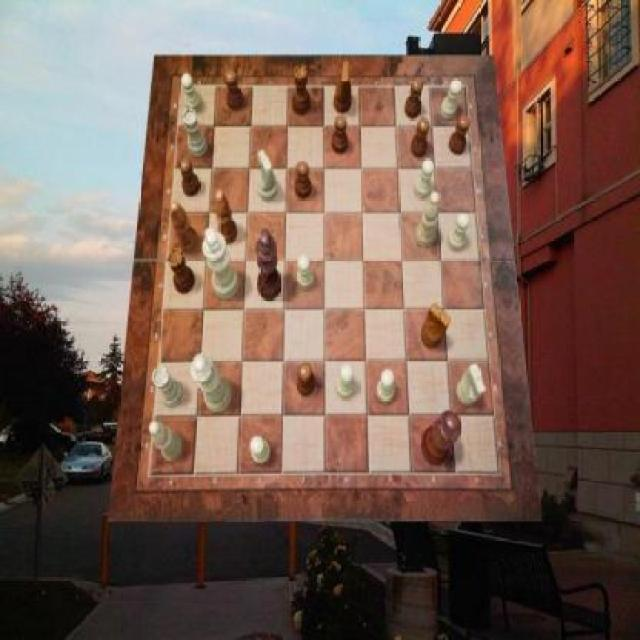bishop: (171, 200, 198, 255), (216, 189, 238, 244)
black-bishop: (257, 229, 281, 302)
black-king: (422, 303, 452, 349), (332, 61, 352, 114)
black-knight: (178, 158, 200, 197), (449, 116, 470, 156), (224, 69, 243, 111), (411, 117, 430, 158), (332, 116, 350, 156), (405, 77, 422, 118), (297, 363, 316, 397), (296, 162, 312, 199)
black-pawn: (422, 410, 462, 466)
black-queen: (169, 248, 197, 294), (292, 64, 312, 116)
black-rook: (149, 422, 183, 463), (416, 192, 440, 248)
white-bishop: (202, 228, 239, 302)
white-king: (456, 363, 486, 405), (257, 150, 278, 202)
white-knight: (440, 80, 462, 122), (448, 214, 470, 252), (414, 160, 434, 200), (182, 74, 202, 114), (337, 365, 357, 399), (297, 256, 315, 292), (377, 369, 395, 404), (251, 437, 271, 465)
white-pawn: (190, 354, 232, 414)
white-queen: (152, 368, 185, 409), (183, 110, 208, 158)
